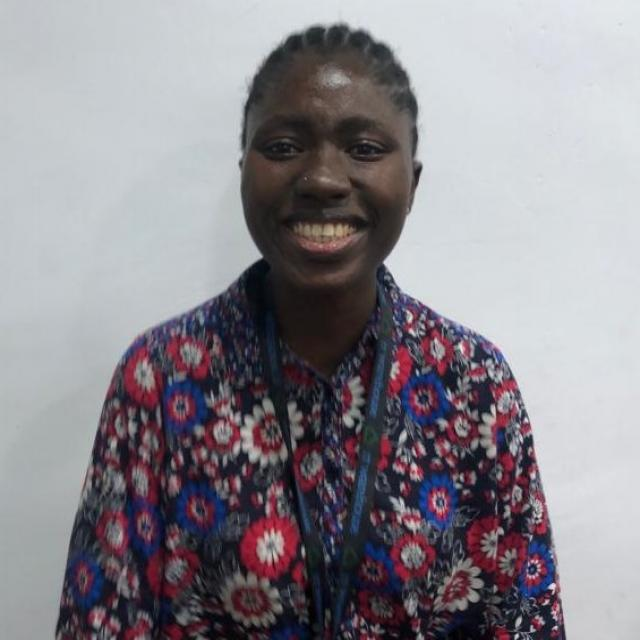happy: (233, 13, 427, 300)
